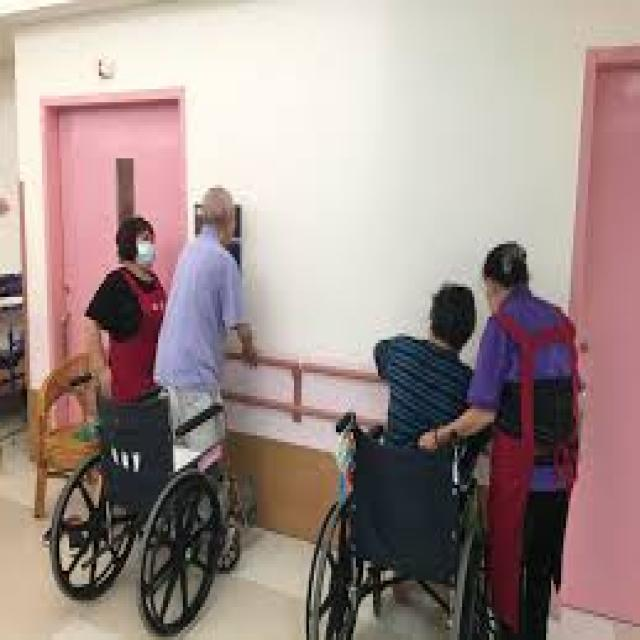wheelchairs: (45, 366, 242, 637), (301, 386, 482, 637)
